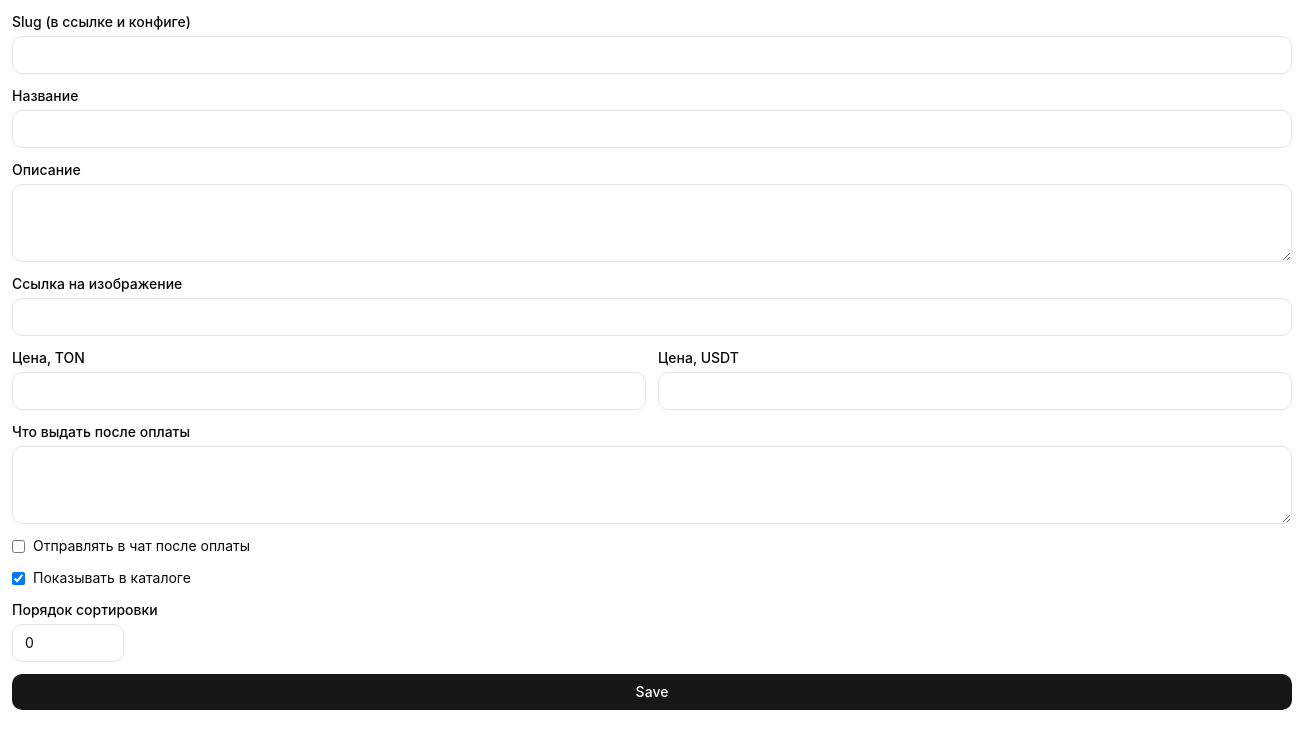
Test: ProductForm › rejects a comma as the decimal separator on the offending field
In the field labelled "Slug (в ссылке и конфиге)": (652, 55) [12,36,1292,74], type "guide"
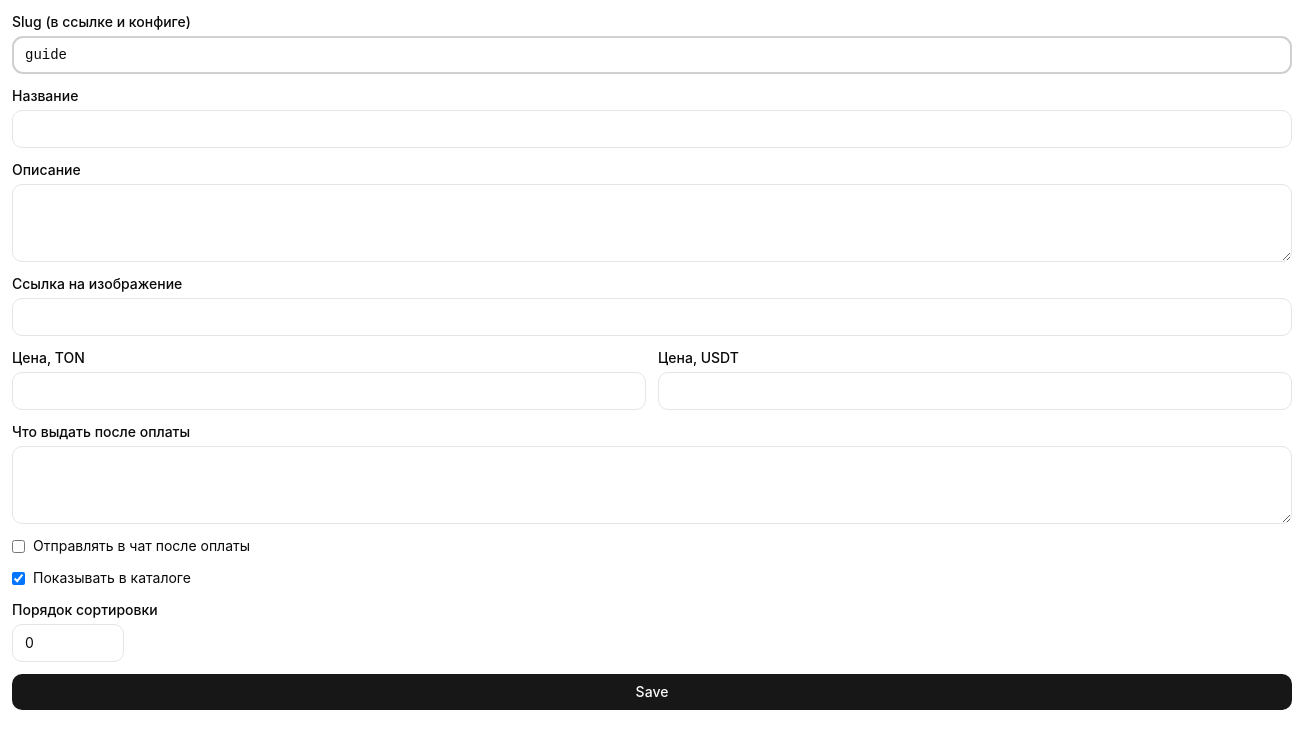
In the field labelled "Название": (652, 129) [12,110,1292,148], type "Guide"
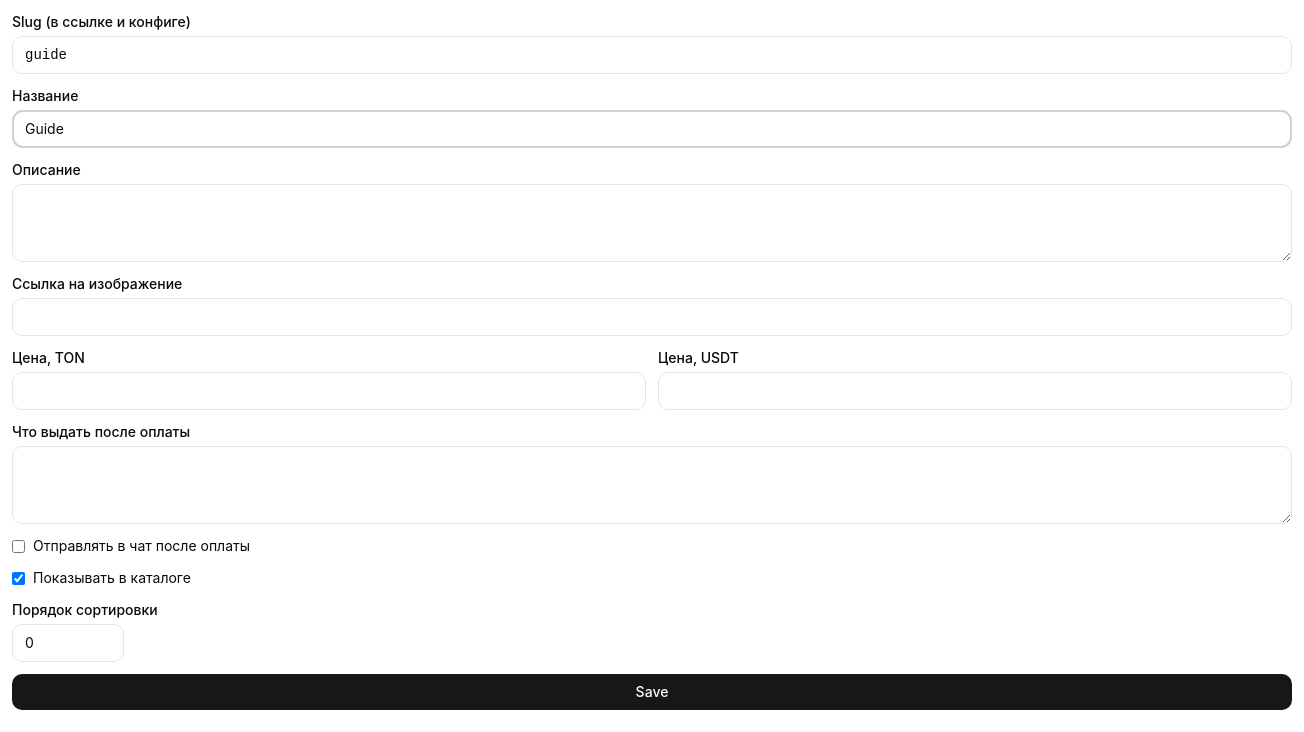
In the field labelled "Цена, TON": (329, 391) [12,372,646,410], type "1,5"
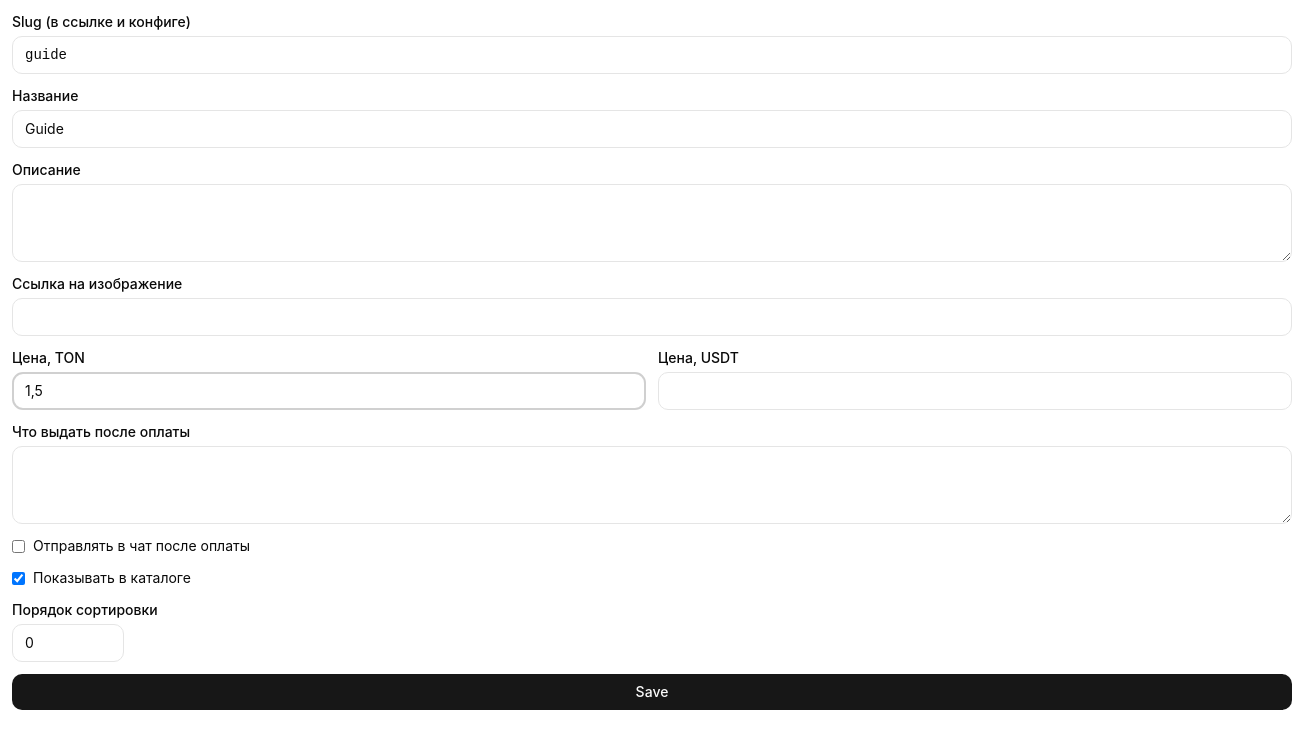
Click the button "Save": (652, 692) [12,674,1292,710]
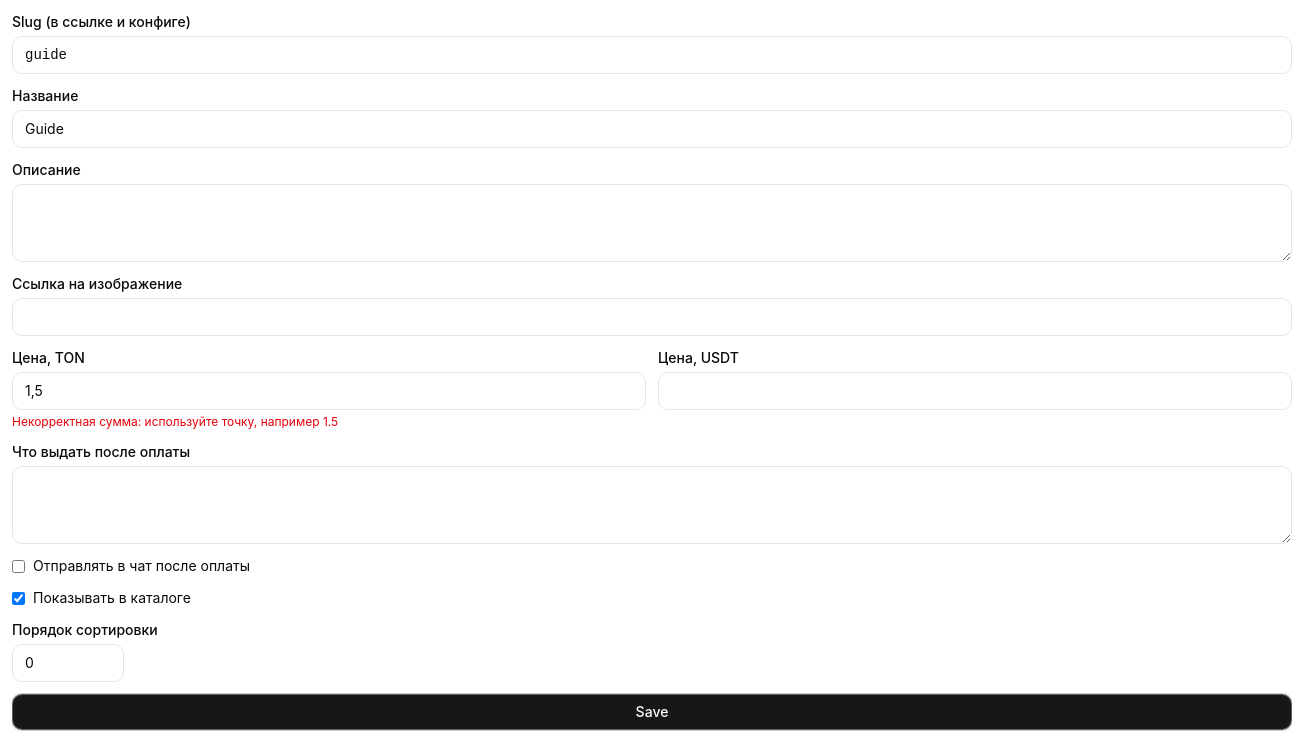
Expected: the text "Некорректная сумма: используйте точку, например 1.5" is shown, [12,414,338,429]
